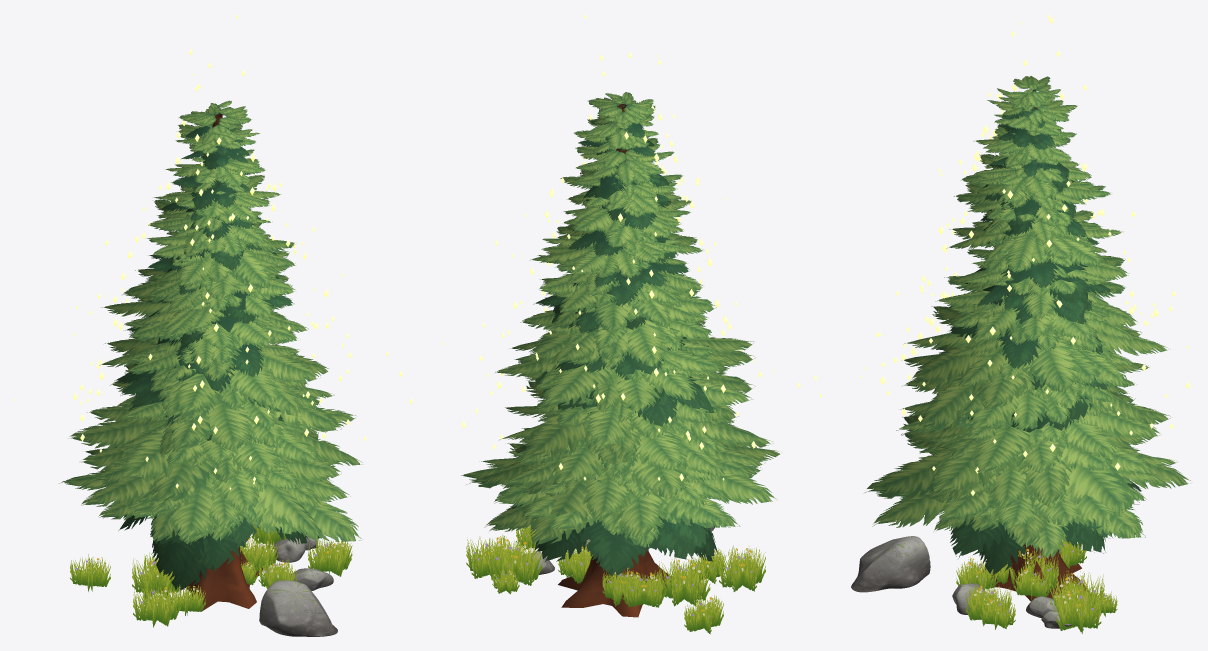
File: pine.glb
The picture shows the model from 3 angles, left to right: view 1: azimuth 30°, elevation 25°; view 2: azimuth 150°, elevation 25°; view 3: azimuth 270°, elevation 25°; orthographic projection. The views are drawn at different scales.
Parts seen in each view (by area): view 1: pine_needles, pine_grass, pine_stone, pine_bark, pine_glitter; view 2: pine_needles, pine_grass, pine_bark, pine_glitter; view 3: pine_needles, pine_grass, pine_stone, pine_glitter, pine_bark.
Part boxes in pixels (box(x1,y1,x2,y2)): pine_needles: box(59, 100, 362, 593); pine_grass: box(70, 525, 352, 627); pine_stone: box(259, 534, 337, 636); pine_bark: box(185, 113, 262, 610); pine_glitter: box(14, 14, 412, 489); pine_needles: box(461, 92, 779, 578); pine_grass: box(466, 524, 765, 634); pine_bark: box(558, 104, 674, 617); pine_glitter: box(441, 14, 822, 481); pine_needles: box(865, 76, 1190, 577); pine_grass: box(956, 535, 1117, 633); pine_stone: box(851, 536, 1072, 628); pine_glitter: box(860, 14, 1190, 495); pine_bark: box(977, 90, 1091, 601).
Size of the model in its own units: 12.64 by 20.94 by 11.18.
Materials: 5 (4 with a texture image).
